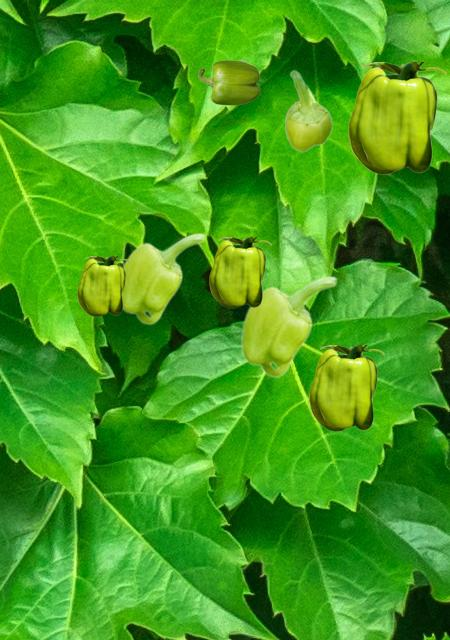bell_pepper: (348, 62, 445, 173), (240, 275, 337, 377), (122, 232, 205, 324), (309, 345, 383, 430), (209, 237, 270, 307), (284, 70, 332, 151), (77, 256, 129, 315), (198, 60, 259, 104)
